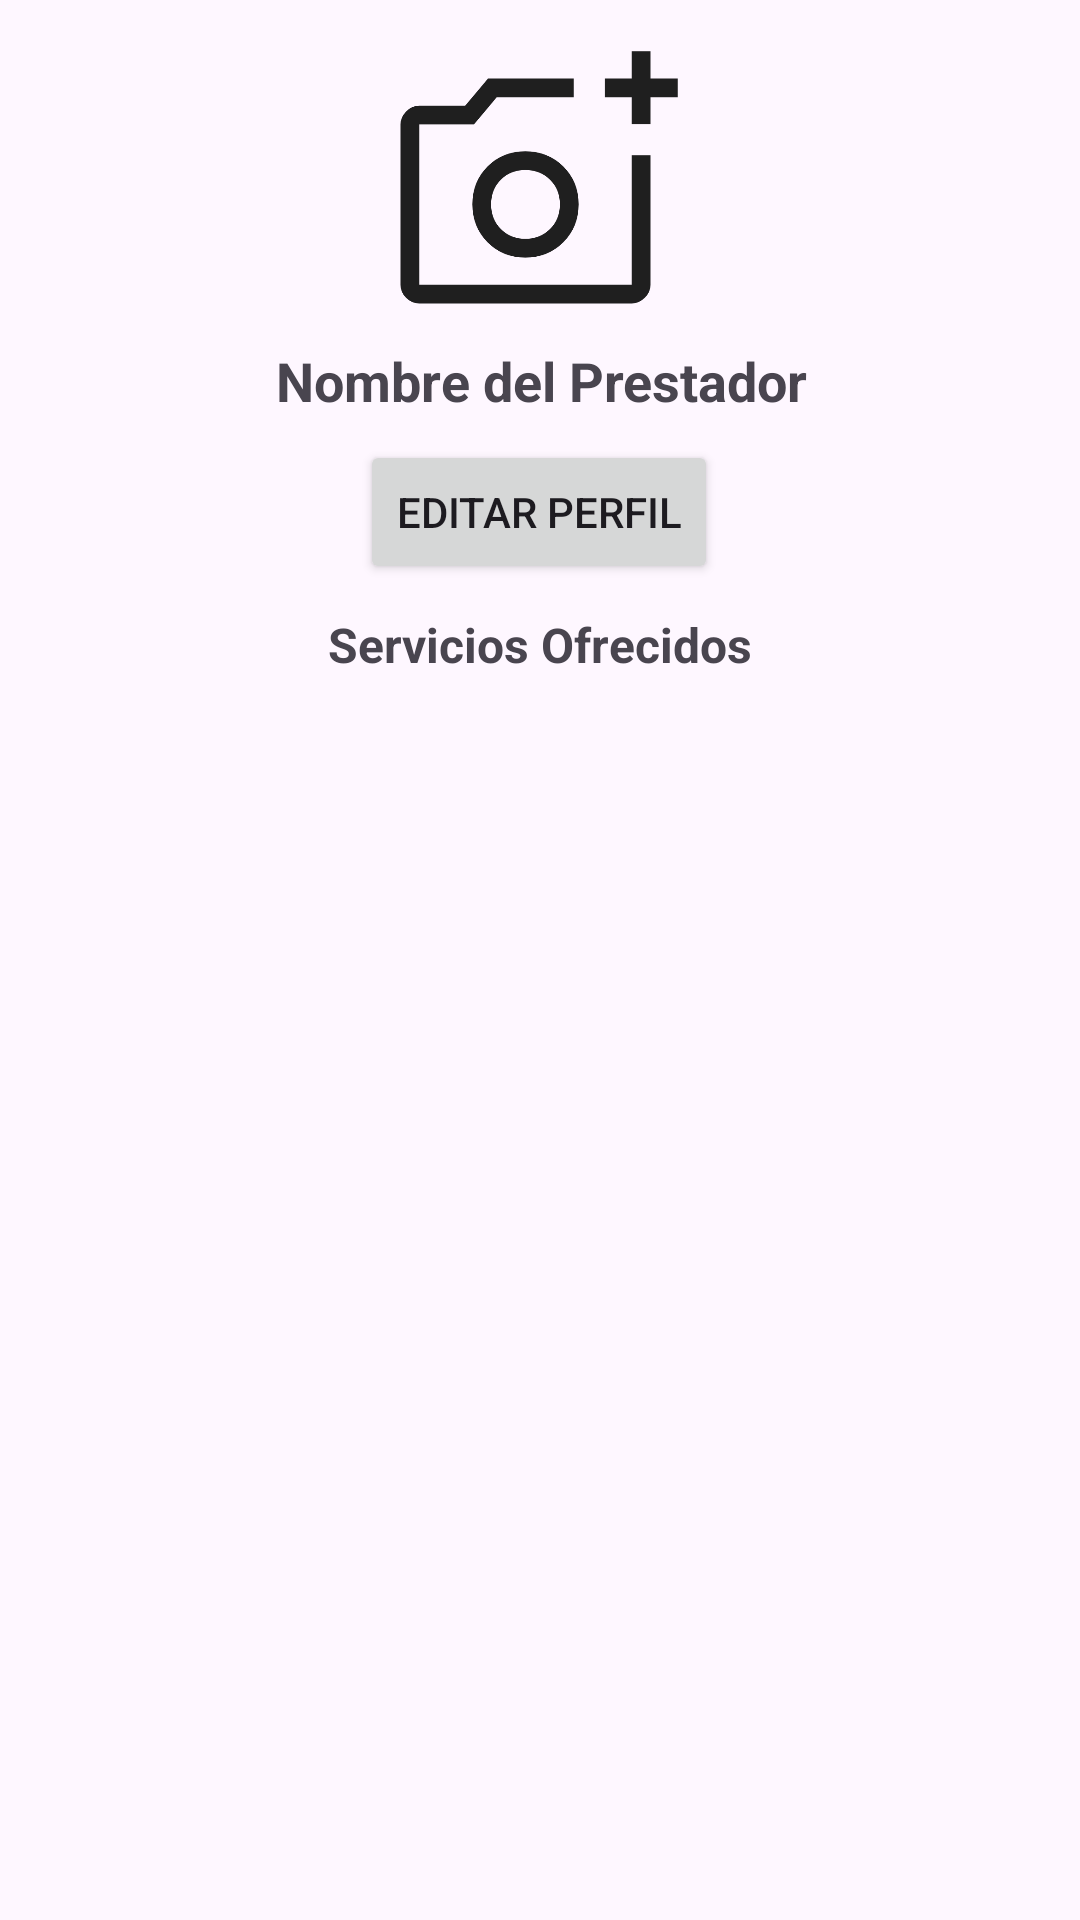

Screen size 1080x1920. Icon name, then its center in pixels as (x,y):
addphoto: (539,177)
